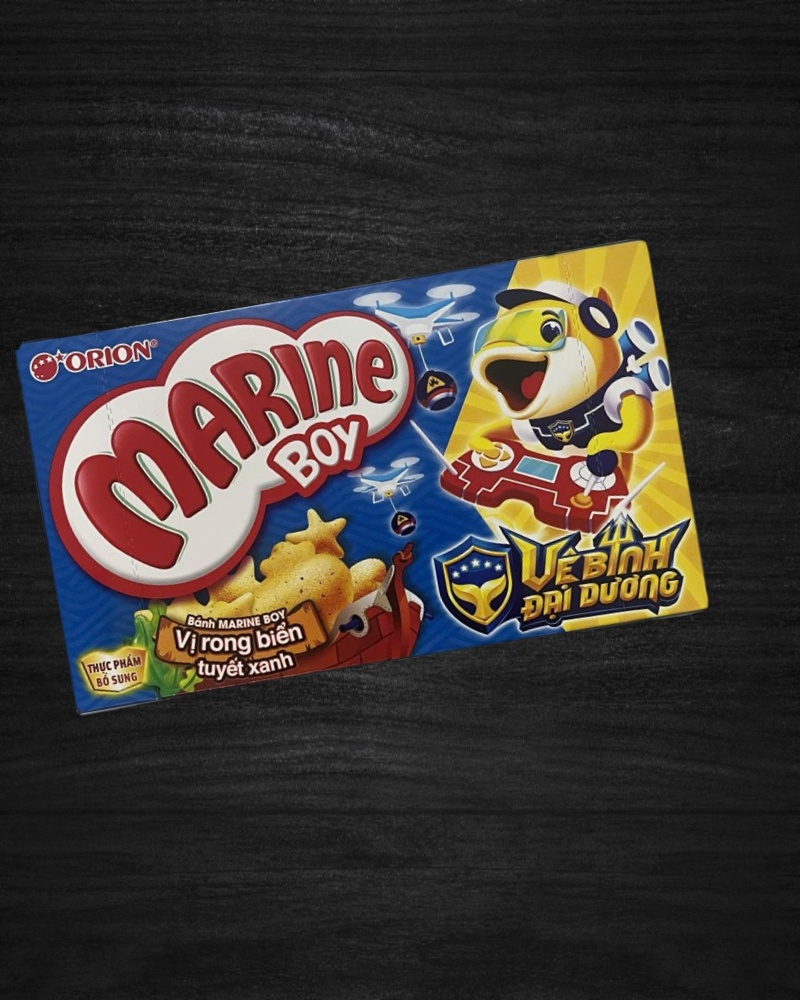Marine: (14, 233, 714, 722)
